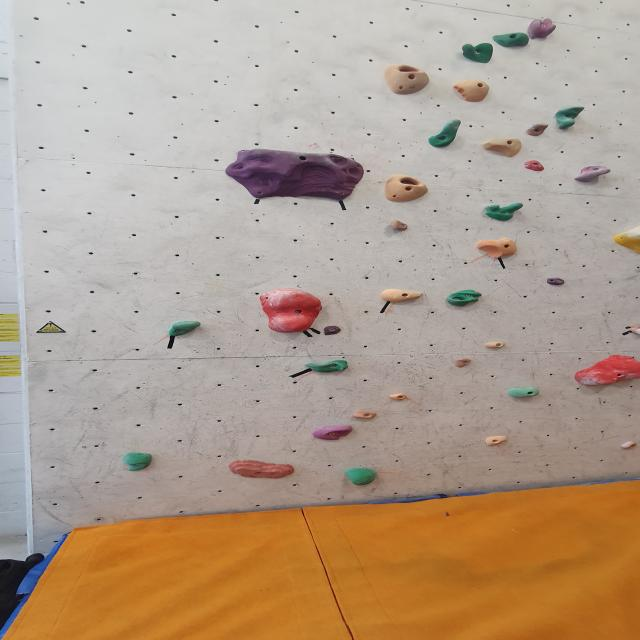Crimp: (224, 150, 366, 201), (379, 287, 425, 302), (523, 162, 545, 174), (484, 342, 508, 350), (452, 358, 473, 367), (620, 442, 640, 451)
Jug: (427, 121, 462, 150), (553, 106, 588, 130), (459, 42, 496, 63), (484, 203, 524, 222), (304, 359, 350, 373), (492, 32, 531, 48), (168, 320, 203, 337), (526, 124, 550, 138), (389, 219, 410, 231)
Pinch: (453, 80, 493, 102), (478, 239, 522, 259), (482, 139, 526, 158), (522, 18, 560, 40), (574, 165, 612, 183), (484, 437, 509, 448), (352, 411, 378, 421), (389, 393, 407, 401)
Pocket: (382, 67, 433, 97), (383, 174, 430, 201), (442, 289, 485, 308)
Sloper: (259, 289, 325, 336), (574, 355, 640, 387), (229, 460, 298, 478), (612, 220, 640, 258), (312, 424, 355, 440), (122, 452, 155, 472), (344, 466, 378, 485), (508, 387, 542, 398)
